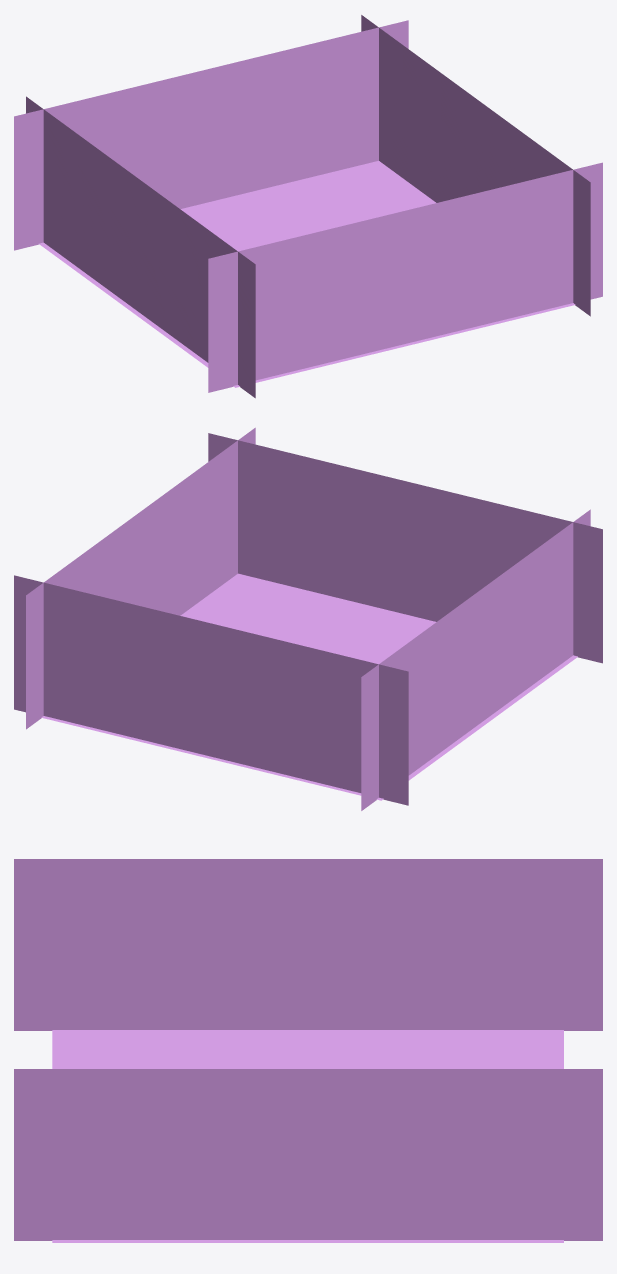
The model's file is theo.glb.
3 renders of one model, top to bottom at view 1: azimuth 30°, elevation 25°; view 2: azimuth 150°, elevation 25°; view 3: azimuth 270°, elevation 25°, orthographic. The views are drawn at different scales.
Parts seen in each view (by area): view 1: Back Box; view 2: Back Box; view 3: Back Box.
Boxes of the visible parts, x1=… form: Back Box: x1=14, y1=15, x2=602, y2=398; Back Box: x1=14, y1=427, x2=602, y2=810; Back Box: x1=14, y1=859, x2=602, y2=1242.
Size of the model in its own units: 48.2 by 15.66 by 48.57.
